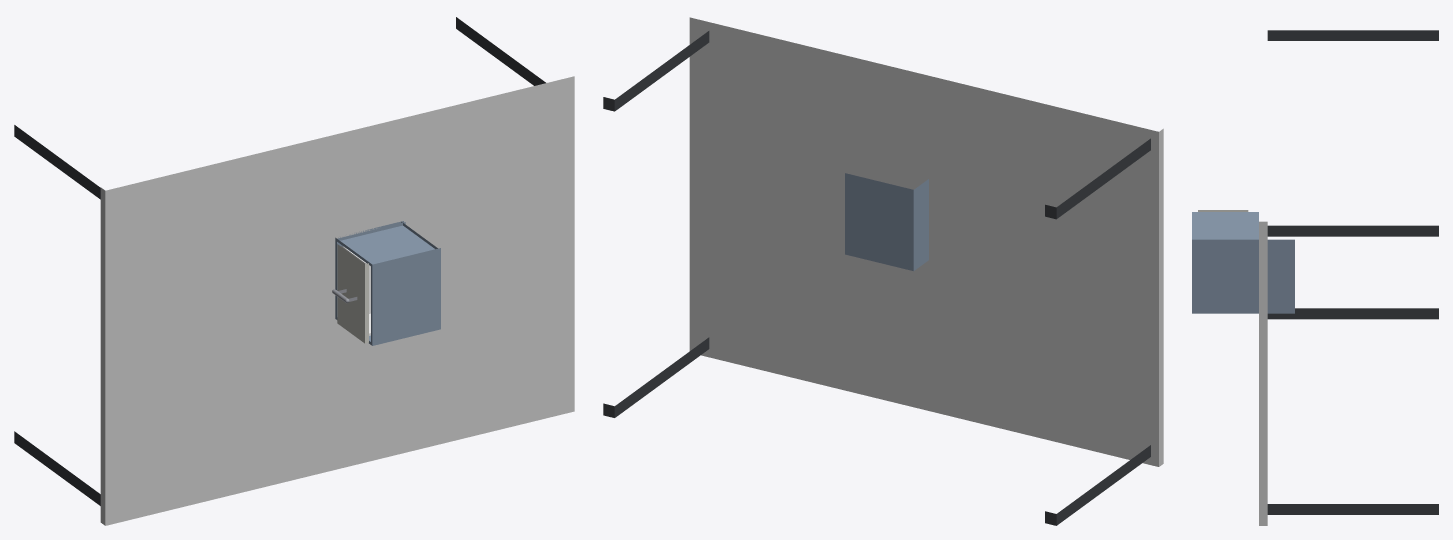
3 views of the same model, side by side, from view 1: azimuth 30°, elevation 25°; view 2: azimuth 150°, elevation 25°; view 3: azimuth 270°, elevation 25° (orthographic). The views are drawn at different scales.
Parts seen in each view (by area): view 1: s0, s1, s2; view 2: s0, s1; view 3: s0, s1.
Boxes of the visible parts, bbox=[...] form: s0: bbox=[14, 17, 574, 525]; s1: bbox=[335, 221, 440, 345]; s2: bbox=[332, 244, 370, 343]; s0: bbox=[603, 17, 1163, 525]; s1: bbox=[845, 173, 928, 271]; s0: bbox=[1259, 30, 1438, 525]; s1: bbox=[1192, 212, 1294, 313].
Bounding box in the file's own units: 2.05 × 1.4 × 1.03.
